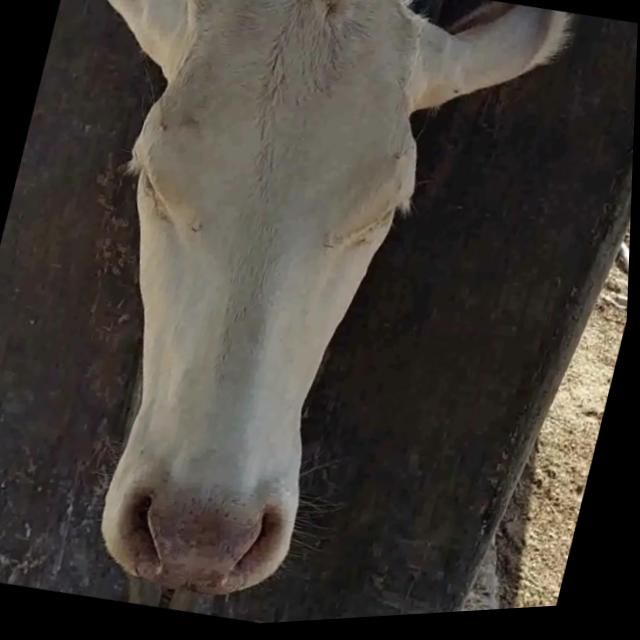cowFace: (32, 0, 464, 629)
